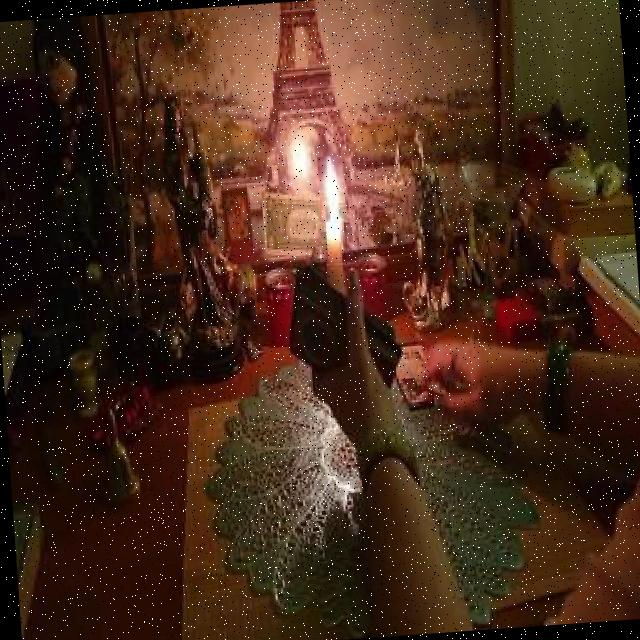fire: (317, 155, 346, 222)
